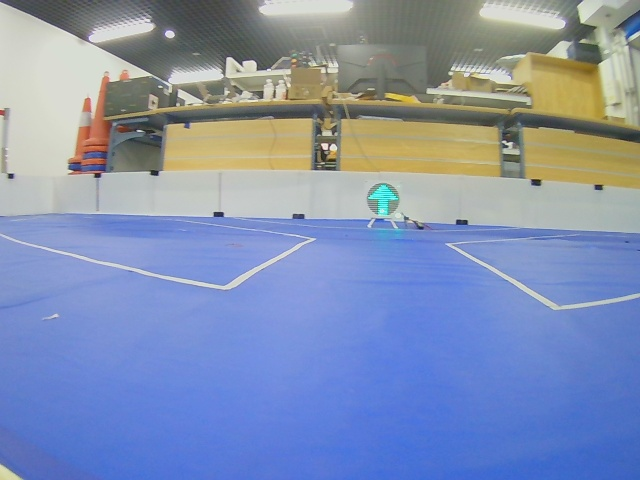straight_green: (367, 183, 400, 217)
